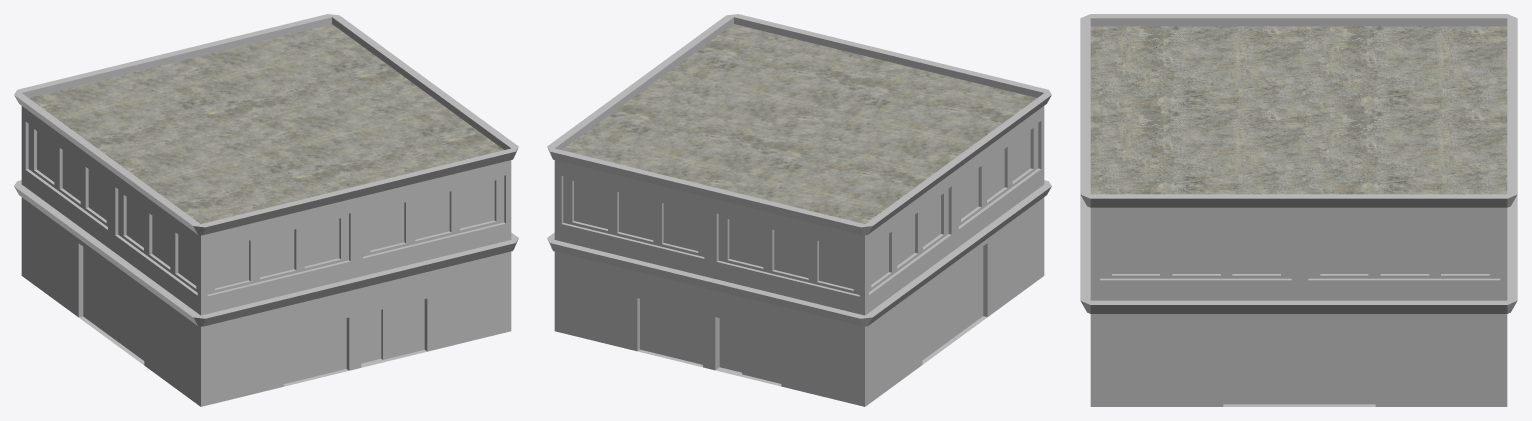
The model's file is DT_Building_Type_10_10.fbx.
3 views of the same model, side by side, from view 1: azimuth 30°, elevation 25°; view 2: azimuth 150°, elevation 25°; view 3: azimuth 270°, elevation 25° (orthographic). The views are drawn at different scales.
Visible parts, largest first — view 1: DT_Building_Type_10_10; view 2: DT_Building_Type_10_10; view 3: DT_Building_Type_10_10.
Part boxes in pixels (x1=…): DT_Building_Type_10_10: x1=14, y1=14, x2=518, y2=406; DT_Building_Type_10_10: x1=547, y1=14, x2=1051, y2=406; DT_Building_Type_10_10: x1=1080, y1=14, x2=1517, y2=406.
Bounding box in the file's own units: 1074 × 576 × 1074.
